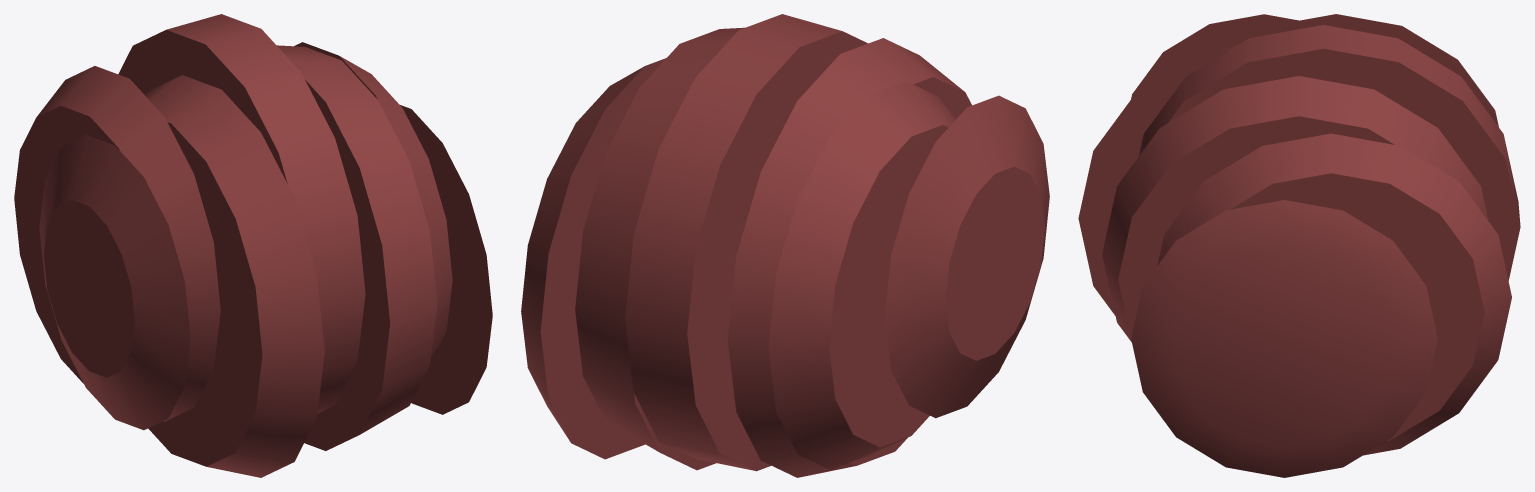
Rendered from Tomato_Chopped.fbx.
3 renders of one model, left to right at view 1: azimuth 30°, elevation 25°; view 2: azimuth 150°, elevation 25°; view 3: azimuth 270°, elevation 25°, orthographic. The views are drawn at different scales.
Visible parts, largest first — view 1: Tomato_Chopped; view 2: Tomato_Chopped; view 3: Tomato_Chopped.
Part boxes in pixels (box(x1,y1,x2,y2)): Tomato_Chopped: box(14, 14, 492, 477); Tomato_Chopped: box(521, 14, 1049, 477); Tomato_Chopped: box(1078, 14, 1520, 477).
Bounding box in the file's own units: 73.21 × 79.59 × 84.19.
